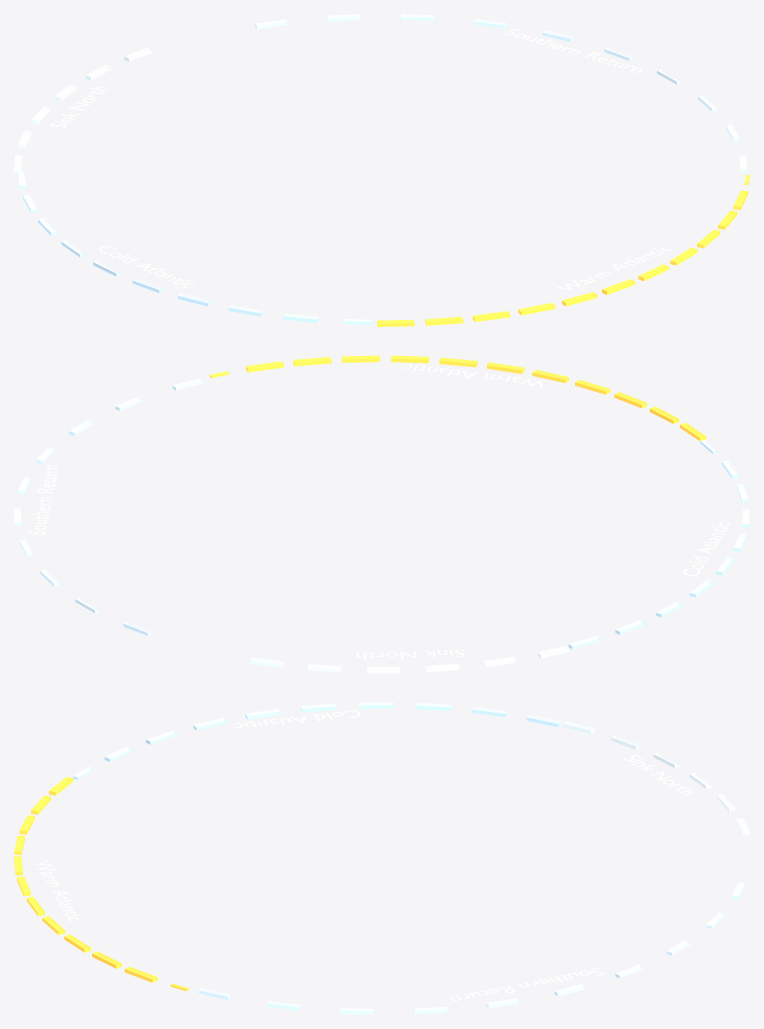
The model's file is amoc_circular_overlay.glb.
The picture shows the model from 3 angles, top to bottom: view 1: azimuth 30°, elevation 25°; view 2: azimuth 150°, elevation 25°; view 3: azimuth 270°, elevation 25°; orthographic projection.
Parts seen in each view (by area): view 1: no part large enough to name; view 2: LBL_amoc_southern_return; view 3: no part large enough to name.
Boxes of the visible parts, <box> form: LBL_amoc_southern_return: <box>28,465,58,534</box>.
Bounding box in the file's own units: 5.99 × 0.0353 × 6.03.
